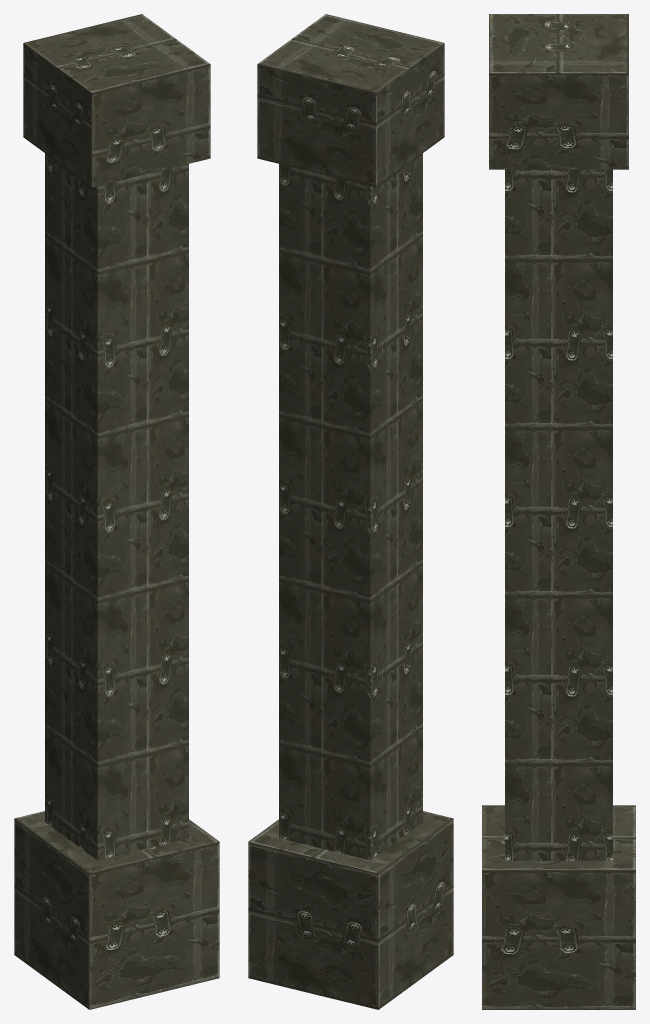
The model's file is pillar_metal5.glb.
The picture shows the model from 3 angles, left to right: view 1: azimuth 30°, elevation 25°; view 2: azimuth 150°, elevation 25°; view 3: azimuth 270°, elevation 25°; orthographic projection. The views are drawn at different scales.
Visible parts, largest first — view 1: Cube; view 2: Cube; view 3: Cube.
Boxes of the visible parts, x1=… form: Cube: x1=14, y1=14, x2=219, y2=1009; Cube: x1=248, y1=14, x2=453, y2=1009; Cube: x1=482, y1=14, x2=635, y2=1009.
Size of what is drawn, in the model's own units: 0.8 by 5.35 by 0.8.
Materials: 1 (1 with a texture image).
